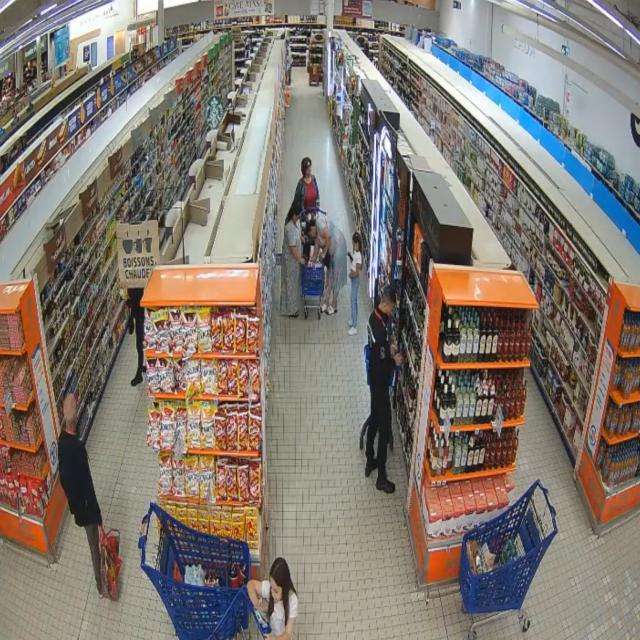article: (399, 351, 408, 364)
bags: (99, 526, 121, 599), (126, 296, 134, 334), (323, 253, 332, 269)
hands: (393, 353, 403, 365), (255, 595, 263, 609), (391, 345, 397, 357), (349, 271, 356, 279), (265, 634, 274, 639), (299, 258, 305, 265)
person: (58, 395, 102, 594), (366, 288, 401, 493), (248, 558, 298, 639), (310, 214, 347, 314), (281, 201, 304, 317), (294, 157, 319, 259), (127, 288, 145, 386), (348, 232, 362, 336), (294, 157, 319, 210)
